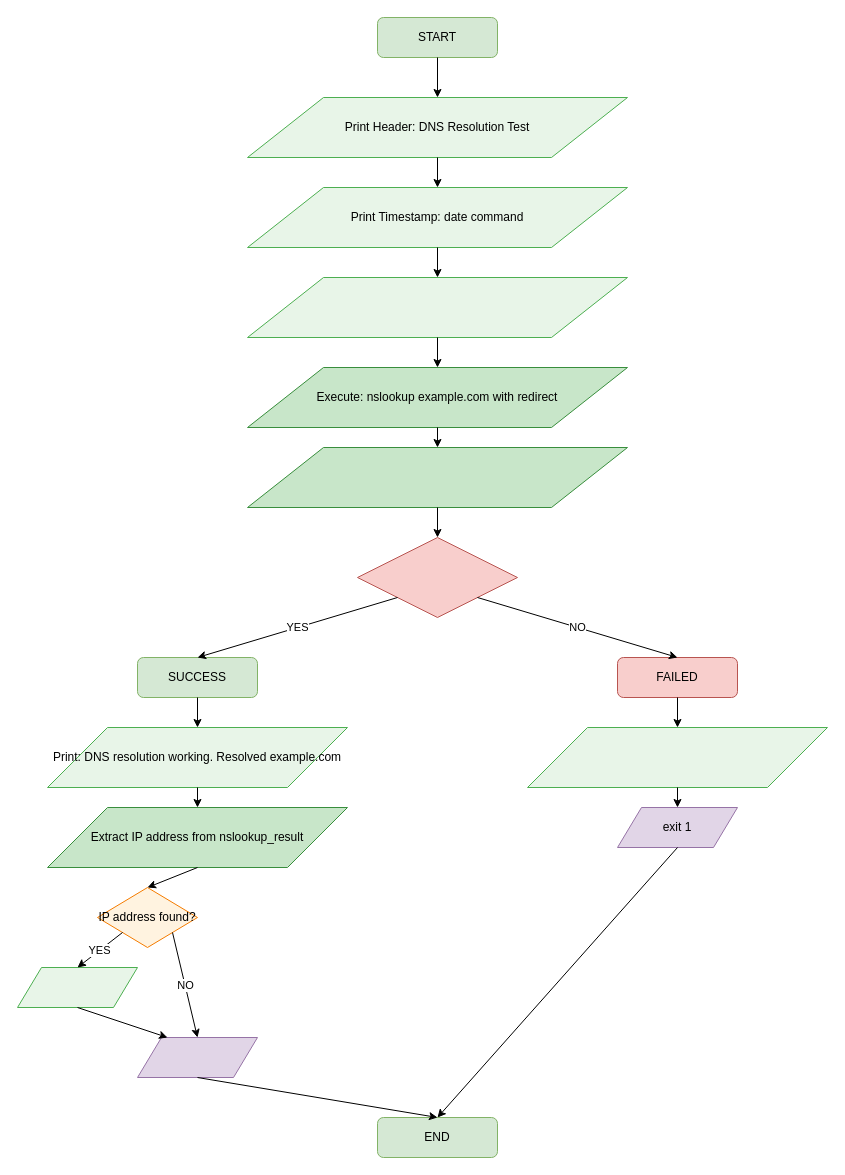
This 845x1175 diagram has some shape labels left out. The shapes that lost their labels are listed below. From the top down, each one's centre as x and y in pixels, then its label:
At (x=437, y=307): "Print: Testing DNS resolution for example.com".
At (x=437, y=477): "Store result in nslookup_result variable".
At (x=437, y=577): "Check Exit Code: Success".
At (x=677, y=757): "Print: DNS resolution failed. Could not resolve".
At (x=77, y=987): "Print IP Address".
At (x=197, y=1057): "exit 0".
